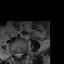CCS_normal: (18, 51, 20, 59)
LFS_normal: (22, 49, 24, 56)
LLS_normal: (20, 51, 22, 58)
RFS_normal: (14, 51, 16, 58)
RLS_normal: (16, 51, 18, 59)
